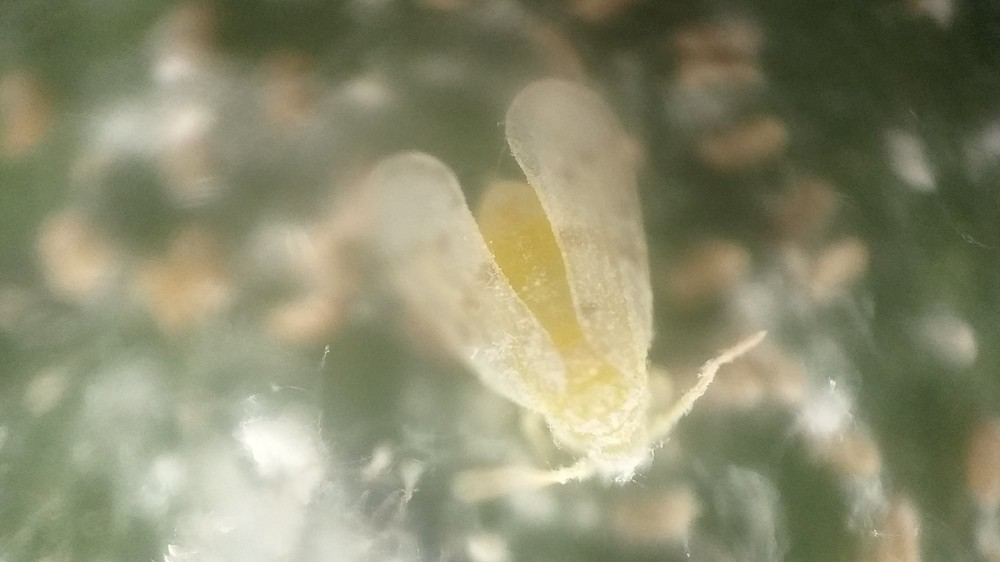Mosca Blanca: (348, 67, 777, 521)
